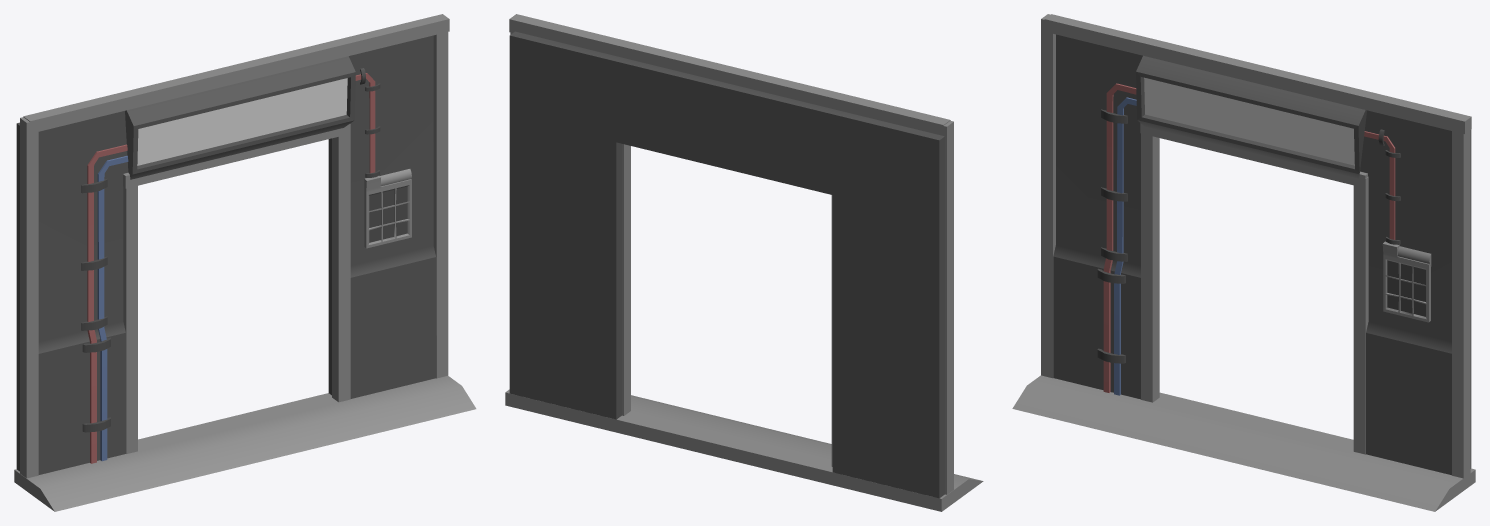
Rendered from doorframe.fbx.
3 renders of one model, left to right at view 1: azimuth 30°, elevation 25°; view 2: azimuth 150°, elevation 25°; view 3: azimuth 330°, elevation 25°, orthographic. The views are drawn at different scales.
Parts seen in each view (by area): view 1: polySurface1, pCube6, pCube4, pCube2, pCube3, pCube5, pCube1, pCube8, pCube10, pCube9, pCube7, pCube11; view 2: polySurface1, pCube6, pCube4, pCube2, pCube5, pCube1; view 3: polySurface1, pCube6, pCube4, pCube3, pCube1, pCube2, pCube5, pCube8, pCube9, pCube10, pCube7, pCube11.
Boxes of the visible parts, box(x1,y1,x2,y2) form: polySurface1: box(16, 35, 436, 474); pCube6: box(14, 376, 476, 511); pCube4: box(23, 14, 449, 133); pCube2: box(20, 117, 38, 478); pCube3: box(433, 32, 448, 378); pCube5: box(332, 124, 350, 402); pCube1: box(123, 178, 137, 453); pCube8: box(364, 176, 411, 248); pCube10: box(97, 155, 128, 461); pCube9: box(87, 144, 127, 463); pCube7: box(123, 124, 349, 188); pCube11: box(355, 73, 375, 173); polySurface1: box(509, 31, 944, 498); pCube6: box(505, 389, 983, 511); pCube4: box(509, 14, 950, 135); pCube2: box(934, 120, 953, 494); pCube5: box(622, 144, 630, 415); pCube1: box(831, 195, 832, 466); polySurface1: box(1053, 34, 1471, 475); pCube6: box(1012, 375, 1475, 511); pCube4: box(1044, 14, 1471, 133); pCube3: box(1452, 122, 1470, 479); pCube1: box(1141, 124, 1159, 402); pCube2: box(1041, 14, 1055, 378); pCube5: box(1353, 176, 1368, 454); pCube8: box(1382, 241, 1430, 322); pCube9: box(1103, 83, 1136, 392); pCube10: box(1114, 97, 1136, 395); pCube7: box(1140, 123, 1367, 187); pCube11: box(1364, 131, 1395, 239).
Size of the model in its own units: 35.67 by 29.72 by 5.93.
